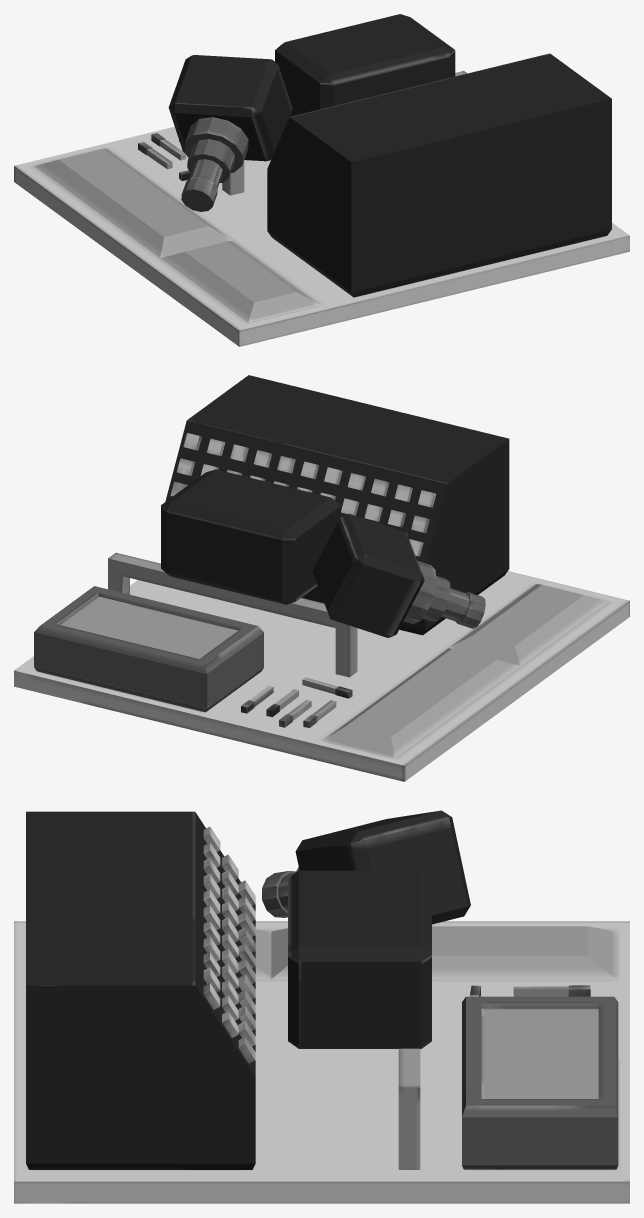
The model's file is Console_B.fbx.
The picture shows the model from 3 angles, top to bottom: view 1: azimuth 30°, elevation 25°; view 2: azimuth 150°, elevation 25°; view 3: azimuth 270°, elevation 25°; orthographic projection. The views are drawn at different scales.
Visible parts, largest first — view 1: Console_B; view 2: Console_B; view 3: Console_B.
Part boxes in pixels (x1,y1,x2,y2): Console_B: (14,14,629,346); Console_B: (14,375,629,781); Console_B: (14,810,629,1203).
Bounding box in the file's own units: 200 × 76.98 × 200.
